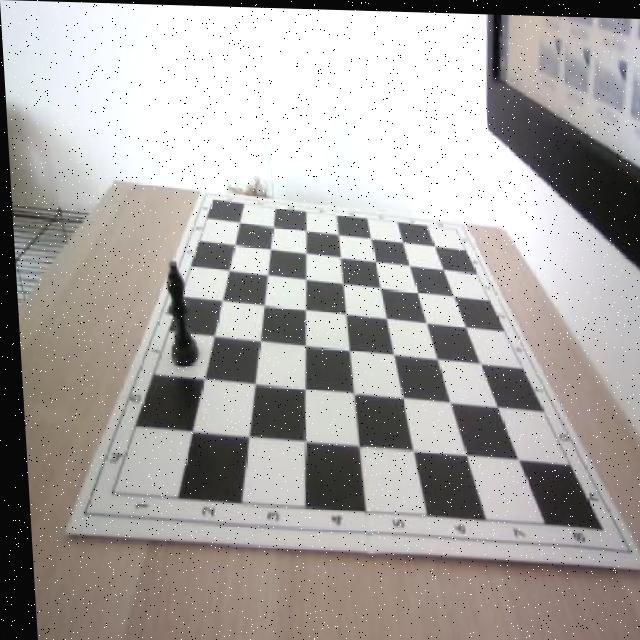bishop: (160, 257, 197, 365)
